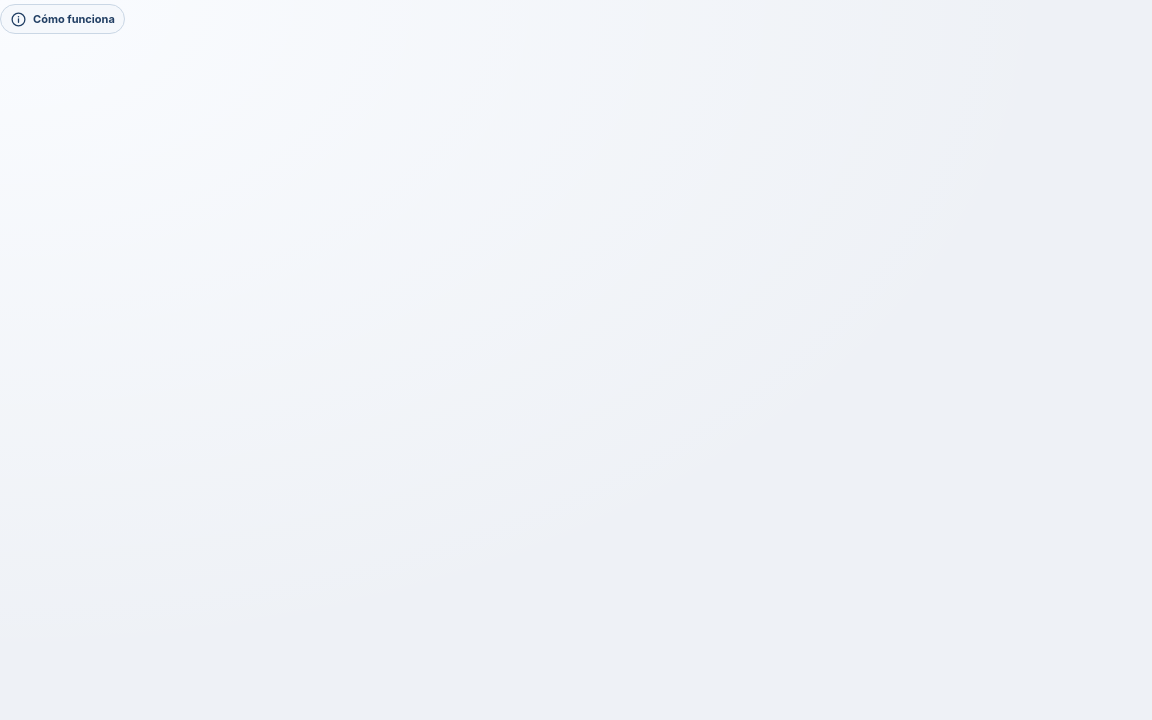
Test: ElectionInfo › shows localized information in es
Click the button "Cómo funciona".
click(62, 19)  # box [0,4,125,34]
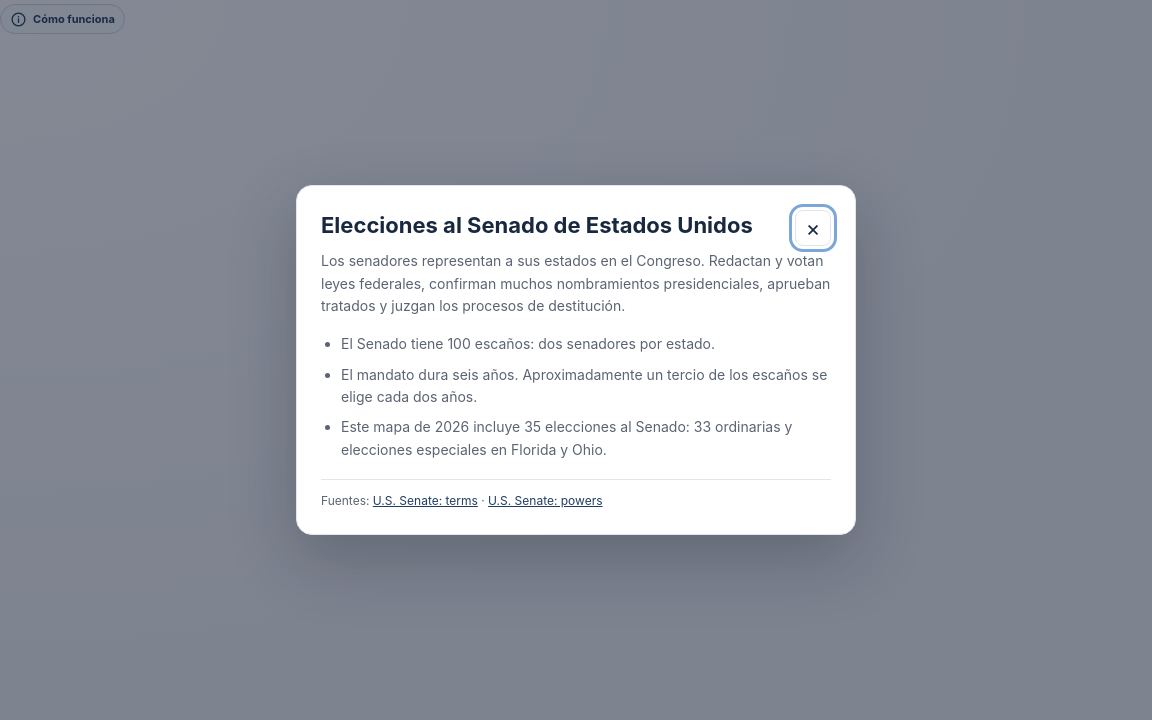
Now the heading "Elecciones al Senado de Estados Unidos" is shown, box [321,212,753,238]
Now the number of list items is 3, box [341,335,715,352]; [341,364,831,408]; [341,416,831,461]
